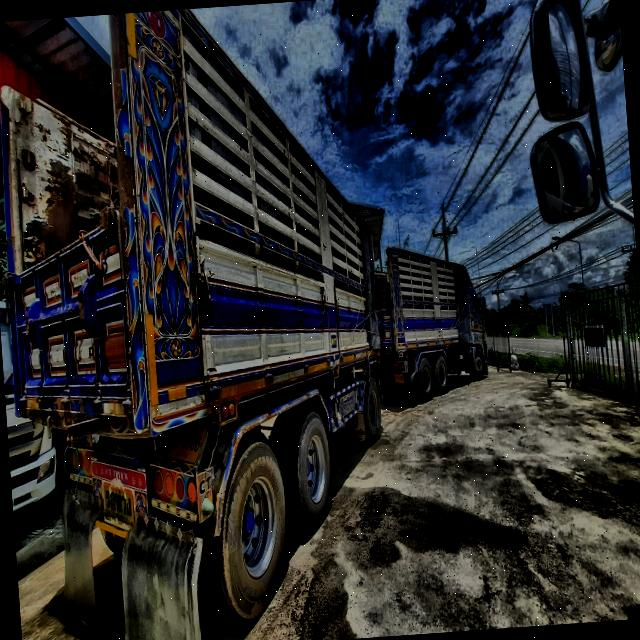trailer: (0, 0, 505, 635)
